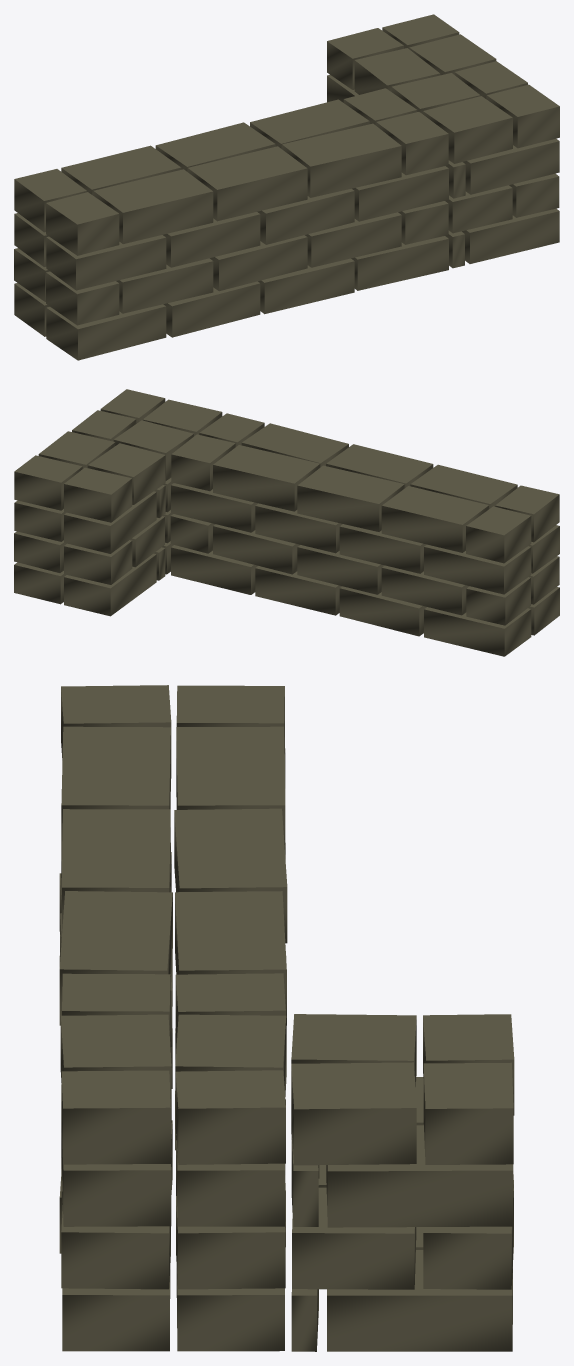
The model's file is SM_SacosRemateEspejo_v0_Recto_e0_Sano_LOD0.fbx.
3 renders of one model, top to bottom at view 1: azimuth 30°, elevation 25°; view 2: azimuth 150°, elevation 25°; view 3: azimuth 270°, elevation 25°, orthographic. The views are drawn at different scales.
Visible parts, largest first — view 1: SM_sacos_piezas_v20_LOD0; view 2: SM_sacos_piezas_v20_LOD0; view 3: SM_sacos_piezas_v20_LOD0.
Part boxes in pixels (x1,y1,x2,y2): SM_sacos_piezas_v20_LOD0: [14, 14, 559, 360]; SM_sacos_piezas_v20_LOD0: [14, 389, 559, 656]; SM_sacos_piezas_v20_LOD0: [59, 685, 514, 1351].
Bounding box in the file's own units: 4.38 × 1.17 × 1.98.
